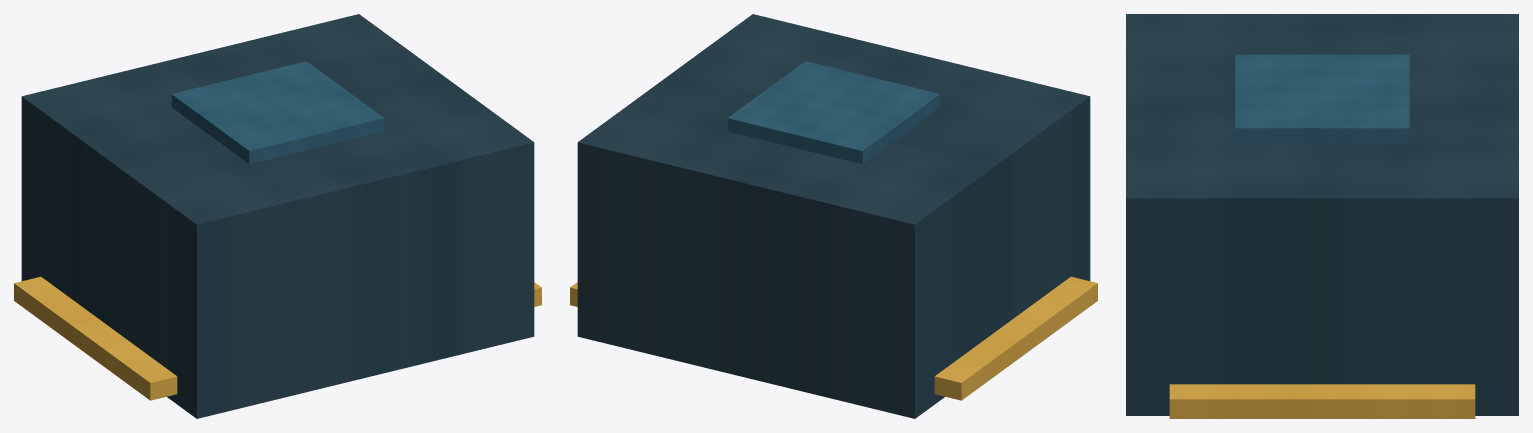
3 views of the same model, side by side, from view 1: azimuth 30°, elevation 25°; view 2: azimuth 150°, elevation 25°; view 3: azimuth 270°, elevation 25° (orthographic). The views are drawn at different scales.
Parts seen in each view (by area): view 1: 292_L122_SN2__PSMAT__sensor, 292_L122_SN2__PSMAT__lens, 292_L122_SN2__PSMAT__gold; view 2: 292_L122_SN2__PSMAT__sensor, 292_L122_SN2__PSMAT__lens, 292_L122_SN2__PSMAT__gold; view 3: 292_L122_SN2__PSMAT__sensor, 292_L122_SN2__PSMAT__lens, 292_L122_SN2__PSMAT__gold.
Part boxes in pixels (box(x1,y1,x2,y2)): 292_L122_SN2__PSMAT__sensor: box(21, 14, 534, 418); 292_L122_SN2__PSMAT__lens: box(171, 61, 384, 164); 292_L122_SN2__PSMAT__gold: box(14, 276, 541, 400); 292_L122_SN2__PSMAT__sensor: box(577, 14, 1090, 418); 292_L122_SN2__PSMAT__lens: box(727, 61, 940, 164); 292_L122_SN2__PSMAT__gold: box(570, 276, 1097, 400); 292_L122_SN2__PSMAT__sensor: box(1126, 14, 1518, 415); 292_L122_SN2__PSMAT__lens: box(1235, 54, 1409, 142); 292_L122_SN2__PSMAT__gold: box(1169, 384, 1475, 418).
Bounding box in the file's own units: 0.0116 × 0.00587 × 0.009.
3 materials, 3 textured.
